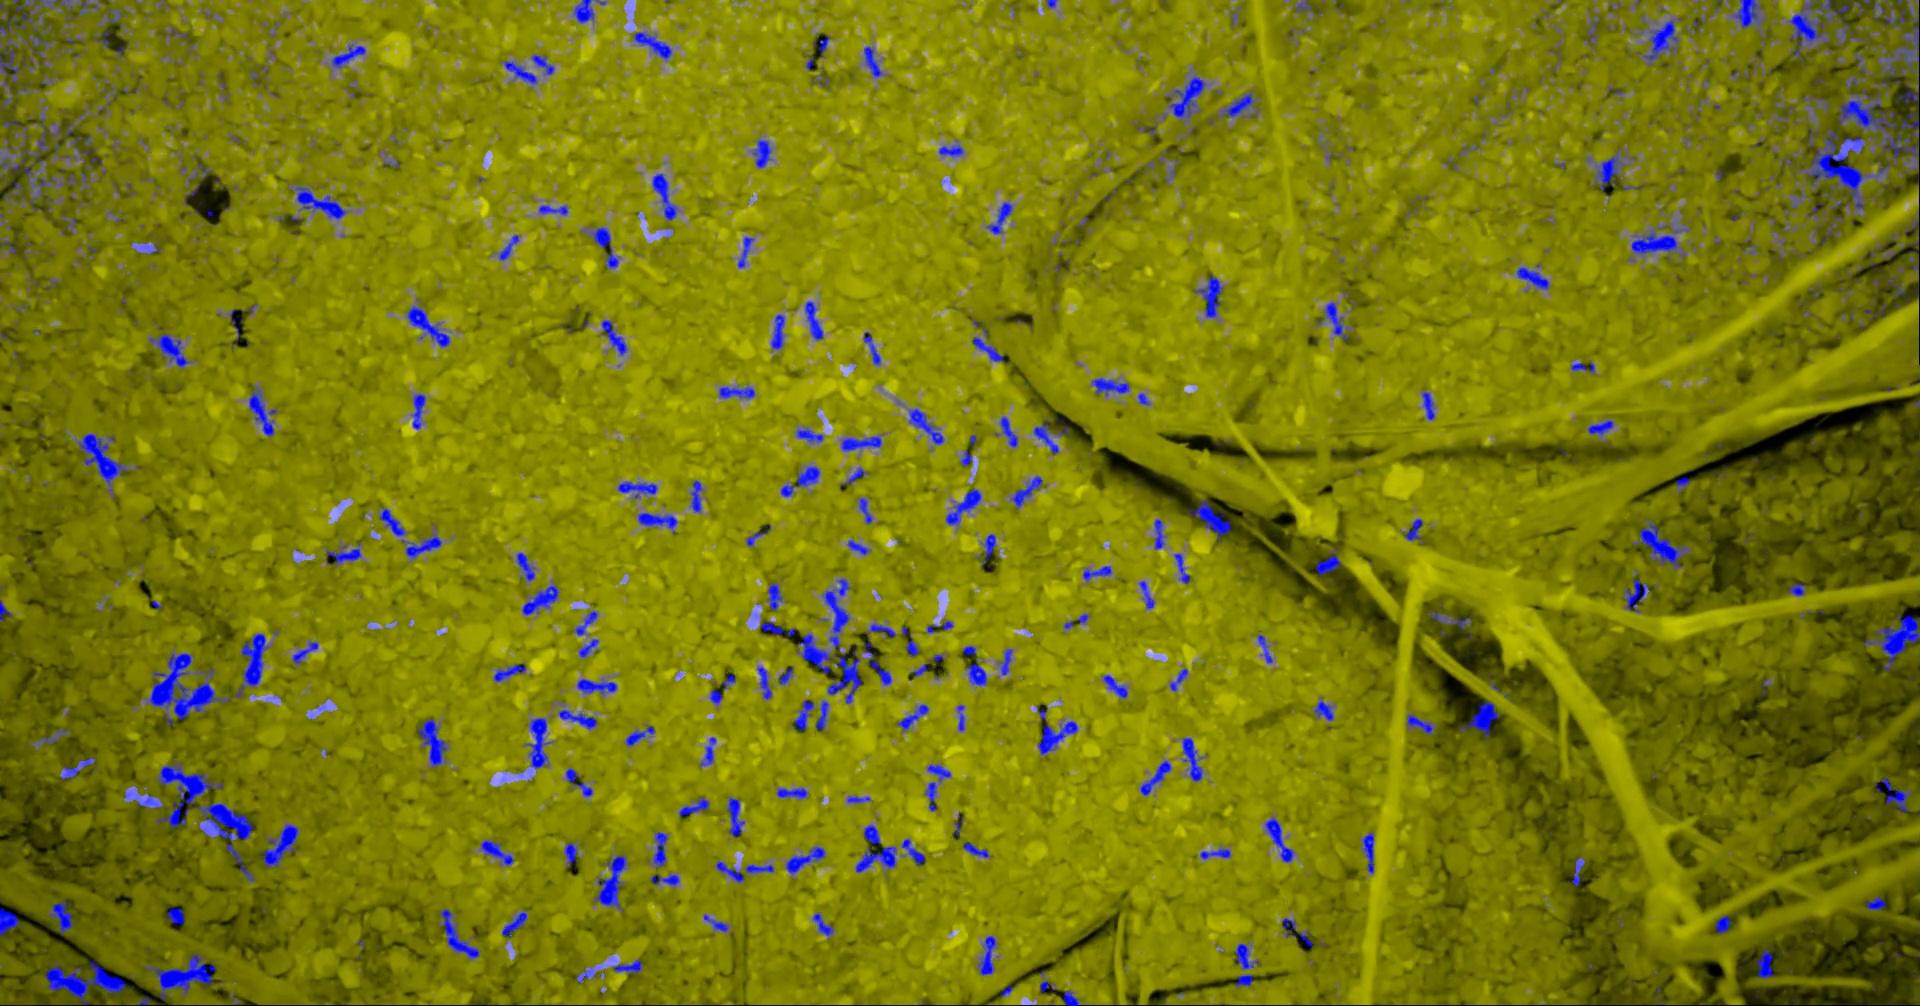ant: (378, 507, 441, 558), (1630, 520, 1688, 568), (438, 908, 479, 958), (822, 578, 850, 649), (594, 854, 629, 911), (1164, 74, 1205, 119), (1643, 17, 1683, 64), (406, 305, 450, 347), (291, 185, 345, 218), (1187, 499, 1230, 540), (1630, 227, 1688, 258), (262, 823, 298, 868), (149, 333, 190, 368), (1459, 700, 1498, 737), (417, 718, 446, 767), (248, 385, 276, 436), (943, 488, 982, 525), (524, 716, 551, 768), (1874, 776, 1911, 813), (1037, 720, 1077, 754), (1263, 817, 1293, 862), (908, 408, 943, 445), (1192, 273, 1222, 318), (1594, 149, 1624, 191), (863, 639, 891, 685), (715, 860, 773, 882), (1032, 419, 1068, 453), (780, 465, 819, 495), (651, 173, 677, 220), (590, 226, 618, 268), (1622, 572, 1650, 612), (785, 846, 825, 874), (1139, 760, 1171, 795), (521, 584, 557, 615), (855, 846, 897, 873), (632, 30, 670, 60), (557, 701, 597, 729), (1010, 475, 1043, 507), (1323, 302, 1349, 340), (325, 539, 361, 565), (1884, 264, 1909, 302), (1515, 263, 1549, 290), (601, 319, 626, 354), (1182, 737, 1203, 781), (479, 840, 514, 865), (1281, 917, 1312, 946), (58, 754, 95, 779), (1903, 216, 1919, 273), (637, 512, 677, 533), (1222, 90, 1253, 117), (985, 202, 1012, 234), (897, 704, 928, 730), (502, 60, 536, 84), (1732, 0, 1761, 28), (331, 43, 364, 67), (565, 767, 592, 796), (804, 300, 823, 340), (977, 935, 996, 976), (1427, 611, 1470, 629), (971, 337, 1003, 361), (50, 901, 72, 934), (1818, 215, 1843, 245), (573, 0, 604, 23), (1771, 93, 1796, 122), (726, 796, 744, 836), (994, 417, 1017, 447), (792, 699, 814, 730), (1091, 377, 1129, 395), (502, 909, 527, 936), (1316, 547, 1340, 575), (841, 434, 881, 451), (617, 481, 657, 498), (975, 533, 996, 565), (1234, 942, 1258, 969), (902, 838, 924, 866), (1406, 714, 1435, 735), (577, 678, 617, 694), (187, 156, 211, 182), (573, 610, 597, 635), (1102, 674, 1128, 699), (863, 46, 883, 77), (292, 641, 317, 664), (678, 796, 709, 815), (497, 234, 518, 260), (737, 236, 754, 268), (493, 663, 524, 681), (38, 728, 70, 746), (651, 831, 667, 868), (625, 727, 654, 746), (745, 523, 770, 546), (863, 332, 880, 365), (759, 621, 795, 636), (902, 625, 919, 655), (965, 658, 985, 685), (1755, 948, 1773, 978), (752, 138, 771, 166), (516, 553, 535, 580), (0, 907, 19, 935), (811, 911, 833, 935), (411, 392, 425, 429), (839, 467, 866, 486), (1173, 553, 1190, 583), (756, 666, 771, 699), (612, 958, 643, 974), (770, 314, 783, 349), (72, 135, 94, 158), (1403, 518, 1423, 542), (1313, 696, 1333, 720), (794, 427, 823, 443), (1256, 634, 1272, 663), (698, 735, 715, 765), (1361, 831, 1373, 873), (1583, 14, 1599, 44), (132, 793, 163, 808), (1138, 580, 1154, 608), (1082, 565, 1111, 580), (963, 841, 989, 857), (531, 55, 554, 74), (1170, 667, 1187, 691), (857, 497, 872, 525), (767, 582, 782, 610), (717, 386, 754, 398), (1571, 856, 1585, 885), (27, 197, 53, 212), (927, 763, 950, 781), (690, 480, 702, 512), (703, 915, 728, 931), (1039, 970, 1055, 995), (1587, 419, 1613, 434), (1063, 614, 1088, 629), (578, 638, 598, 657), (815, 699, 828, 729), (649, 874, 679, 887), (811, 36, 829, 57), (1294, 0, 1321, 14), (926, 619, 952, 633), (869, 622, 895, 636), (1421, 391, 1434, 419), (847, 539, 870, 554), (999, 648, 1012, 674), (938, 144, 963, 158), (1153, 520, 1164, 549), (924, 781, 936, 810), (776, 788, 808, 798), (1199, 848, 1230, 859), (863, 824, 880, 843), (77, 0, 98, 15), (1570, 361, 1594, 373), (564, 842, 577, 866), (1854, 51, 1865, 77), (538, 205, 568, 215), (93, 29, 109, 47), (166, 907, 184, 923), (1714, 915, 1730, 934), (575, 969, 596, 983), (105, 8, 123, 23), (60, 215, 75, 232), (777, 666, 792, 683), (1062, 989, 1079, 1005), (1865, 895, 1884, 909), (1801, 95, 1823, 107), (0, 600, 11, 622), (1137, 124, 1157, 137), (0, 239, 15, 254), (1787, 582, 1804, 594), (1810, 203, 1829, 215), (709, 688, 723, 704), (1236, 974, 1252, 987), (1807, 128, 1818, 146), (960, 448, 971, 466), (956, 704, 964, 730), (723, 673, 735, 688), (954, 813, 963, 835), (846, 795, 870, 803), (1675, 476, 1689, 489), (961, 645, 975, 655)
